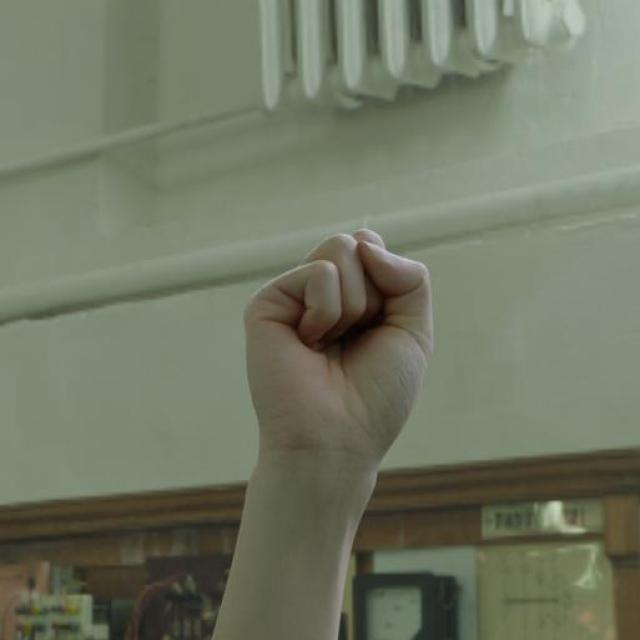S: (242, 221, 438, 488)
